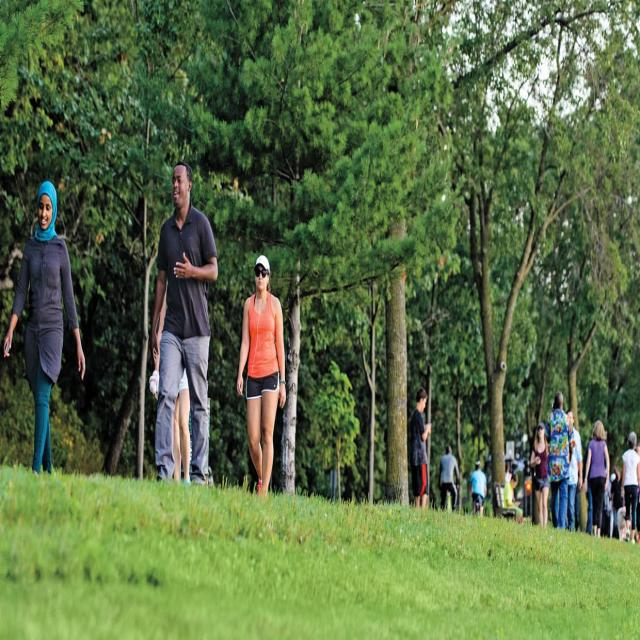person: (143, 150, 306, 506), (14, 136, 99, 493), (528, 360, 640, 549), (403, 368, 489, 509)
